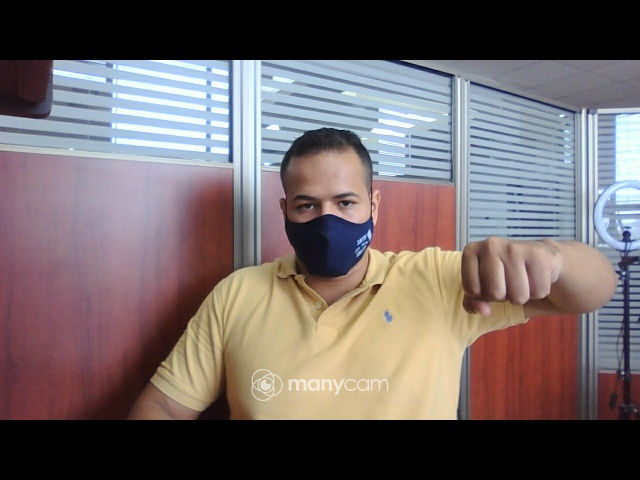Yes: (456, 234, 558, 319)
